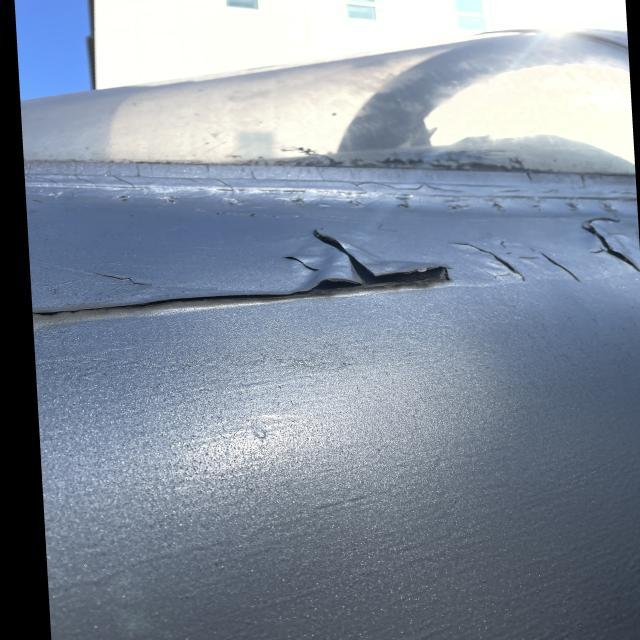crack: (448, 235, 582, 295), (270, 255, 329, 275), (108, 269, 156, 287)
